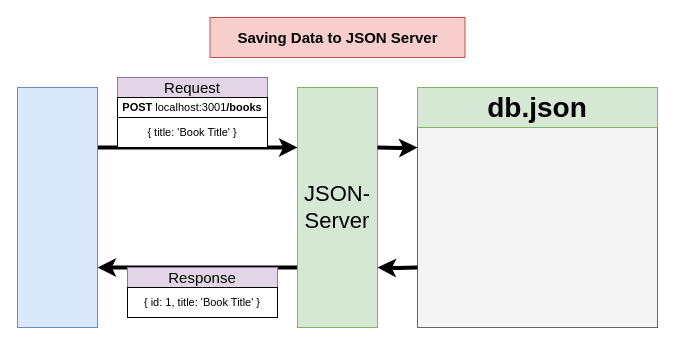
The diagram is 675 pixels wide and 345 high, and some of its shapes have lost their labels. The centre of each missing label's shape, as x and y in pixels:
React App: (57,207)
{ "books": [ { id: 1, title: 'Book Title' } ] }: (537,227)
